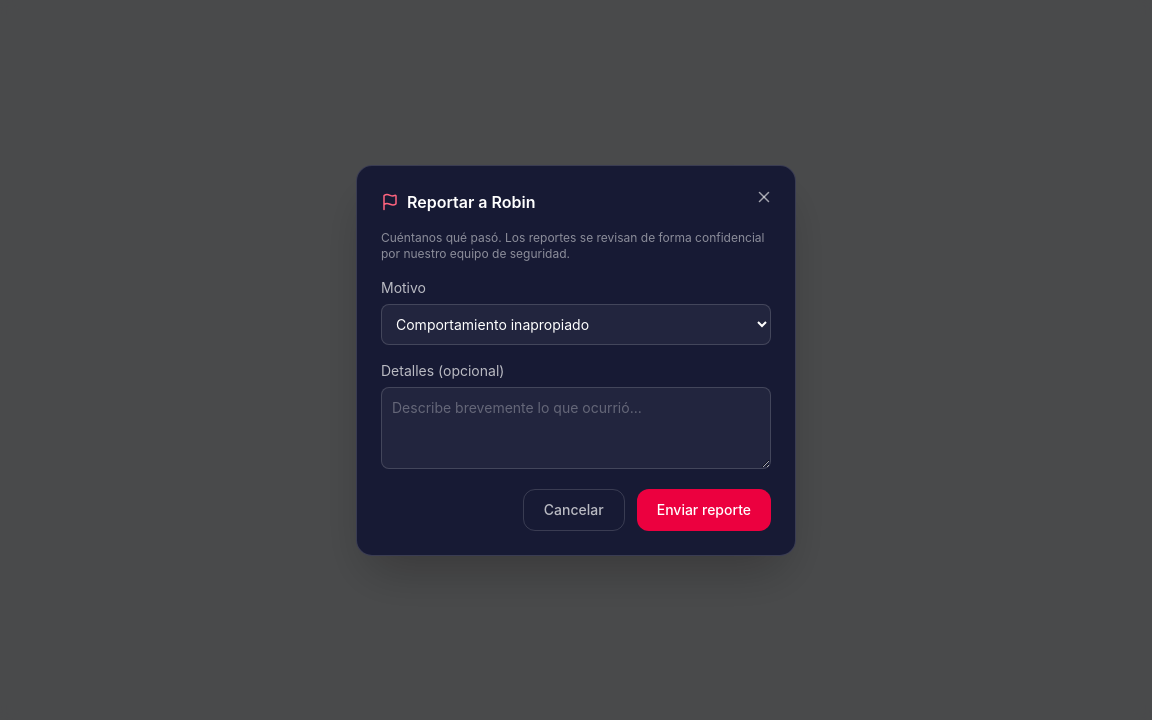
ReportProfileModal › muestra un mensaje específico cuando el backend responde 409 (reporte ya abierto)
Click the button "Enviar reporte": {"x": 704, "y": 510} [637,488,771,530]
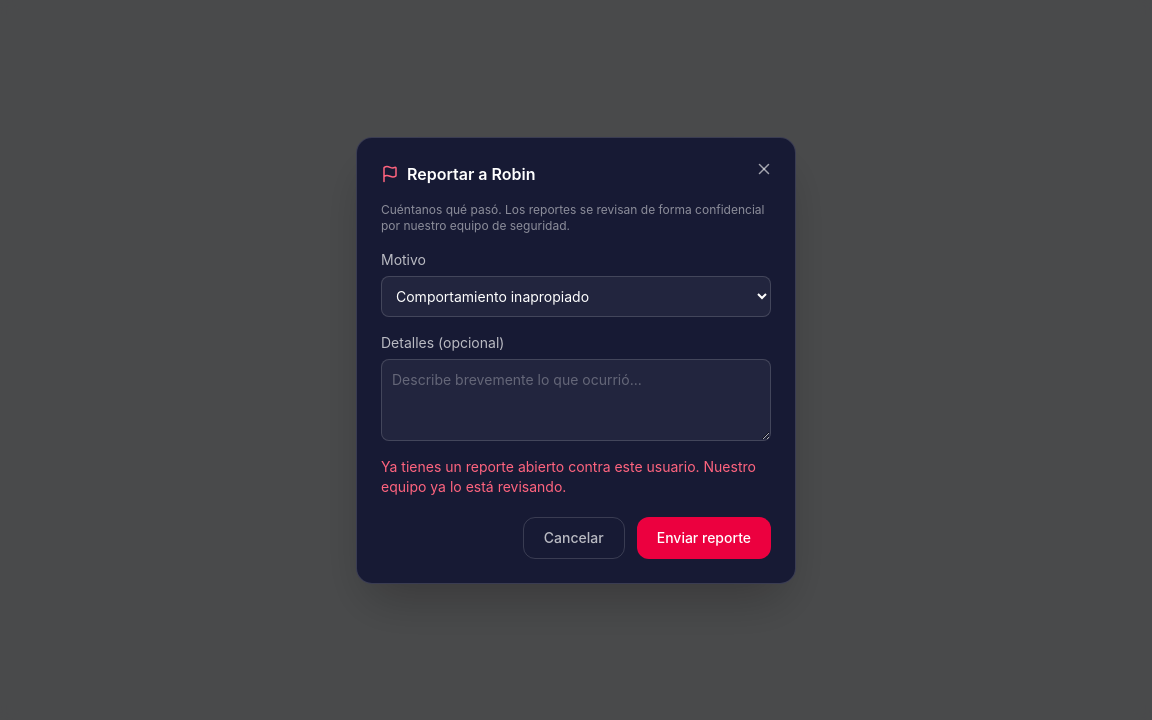
expect the text "Ya tienes un reporte abierto" is shown: met, box [381,458,756,494]
